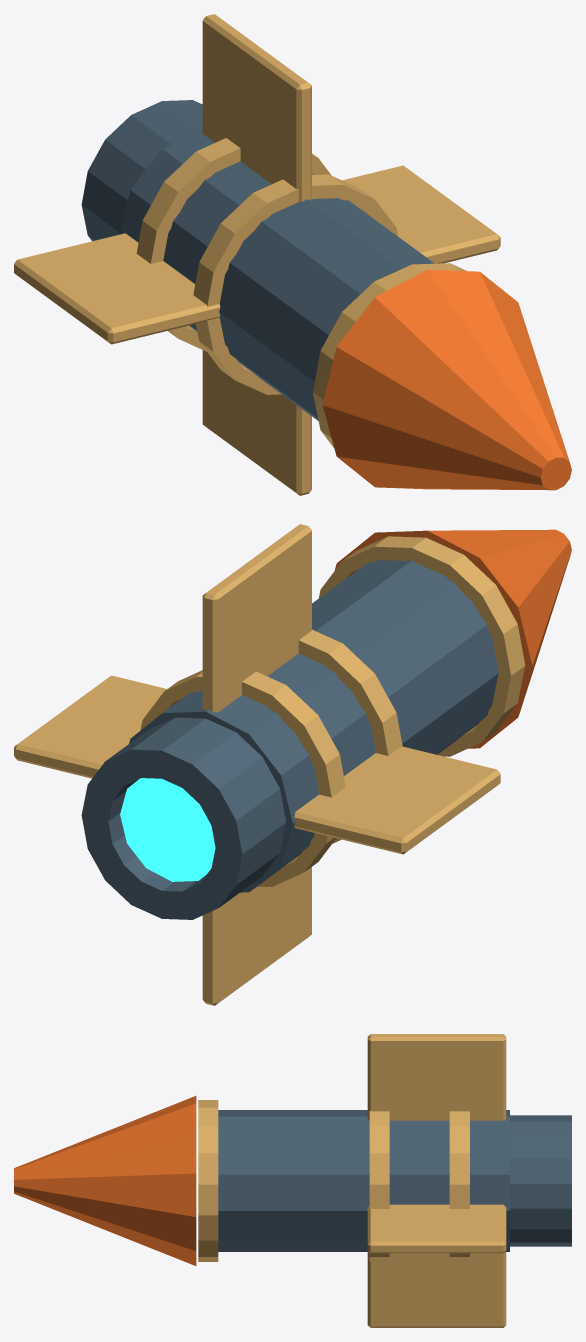
File: wild-rocket.glb
3 views of the same model, one above another, from view 1: azimuth 30°, elevation 25°; view 2: azimuth 150°, elevation 25°; view 3: azimuth 270°, elevation 25° (orthographic). The views are drawn at different scales.
Parts seen in each view (by area): view 1: RocketHull.001; view 2: RocketHull.001; view 3: RocketHull.001.
Boxes of the visible parts, box(x1,y1,x2,y2) form: RocketHull.001: box(14, 14, 571, 495); RocketHull.001: box(14, 524, 571, 1005); RocketHull.001: box(14, 1034, 571, 1327).
Bounding box in the file's own units: 0.2112 × 0.2112 × 0.3672.
